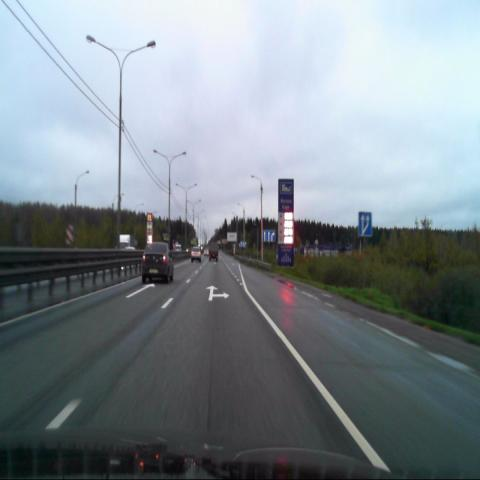5_15_3: (358, 211, 372, 237)
